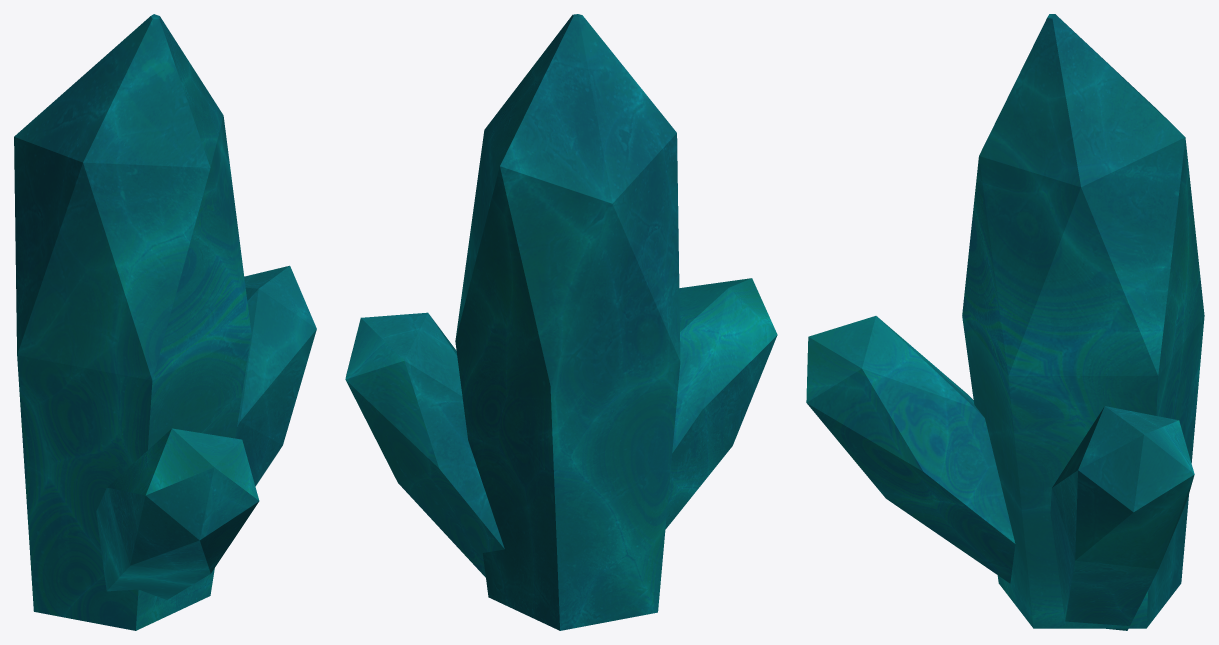
The model's file is Crystal.fbx.
3 views of the same model, side by side, from view 1: azimuth 30°, elevation 25°; view 2: azimuth 150°, elevation 25°; view 3: azimuth 270°, elevation 25° (orthographic). The views are drawn at different scales.
Parts seen in each view (by area): view 1: Icosphere; view 2: Icosphere; view 3: Icosphere.
Part boxes in pixels (<box>): Icosphere: <box>14,14,316,630</box>; Icosphere: <box>345,14,777,630</box>; Icosphere: <box>806,14,1204,630</box>.
Bounding box in the file's own units: 1.89 × 3.3 × 1.99.
